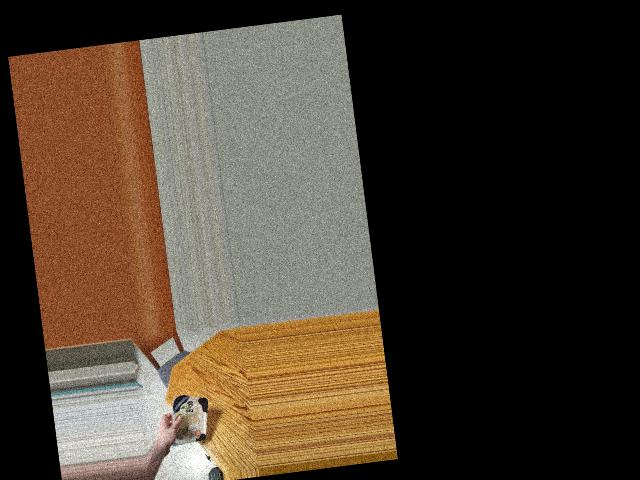cheese: (167, 390, 212, 456)
